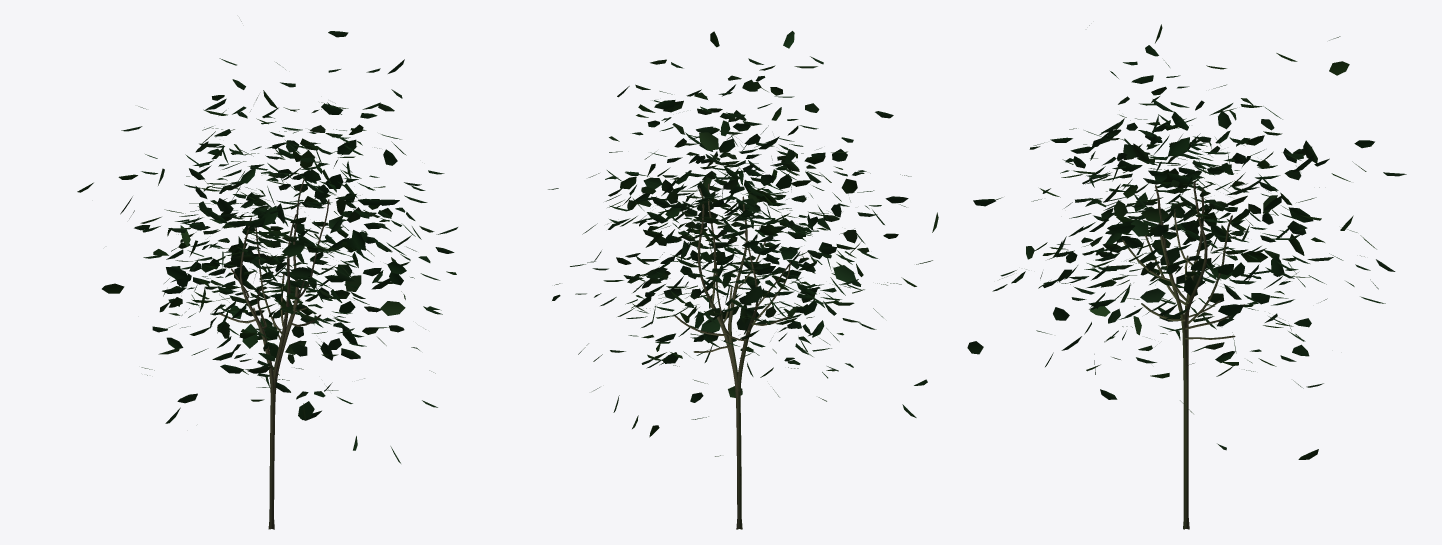
The model's file is SM_Tree_garden_shrub_0.glb.
The picture shows the model from 3 angles, left to right: view 1: azimuth 30°, elevation 25°; view 2: azimuth 150°, elevation 25°; view 3: azimuth 270°, elevation 25°; orthographic projection. The views are drawn at different scales.
Visible parts, largest first — view 1: SM_Tree_garden_shrub_0; view 2: SM_Tree_garden_shrub_0; view 3: SM_Tree_garden_shrub_0.
Boxes of the visible parts, x1,y1,x2,y2 form: SM_Tree_garden_shrub_0: (77,21,457,529); SM_Tree_garden_shrub_0: (548,31,938,529); SM_Tree_garden_shrub_0: (967,24,1406,529).
Bounding box in the file's own units: 3.33 × 3.85 × 3.05.
